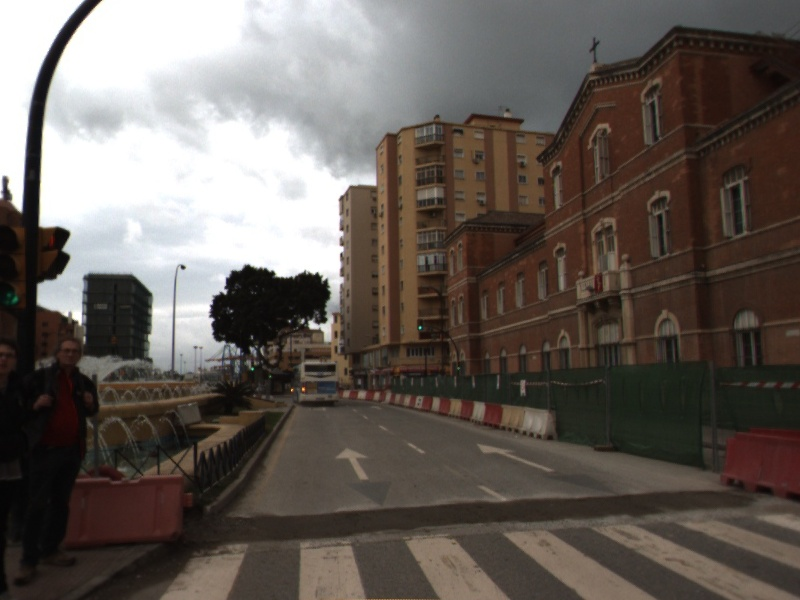STRAIGHT: (475, 441, 559, 474), (333, 446, 372, 482)
